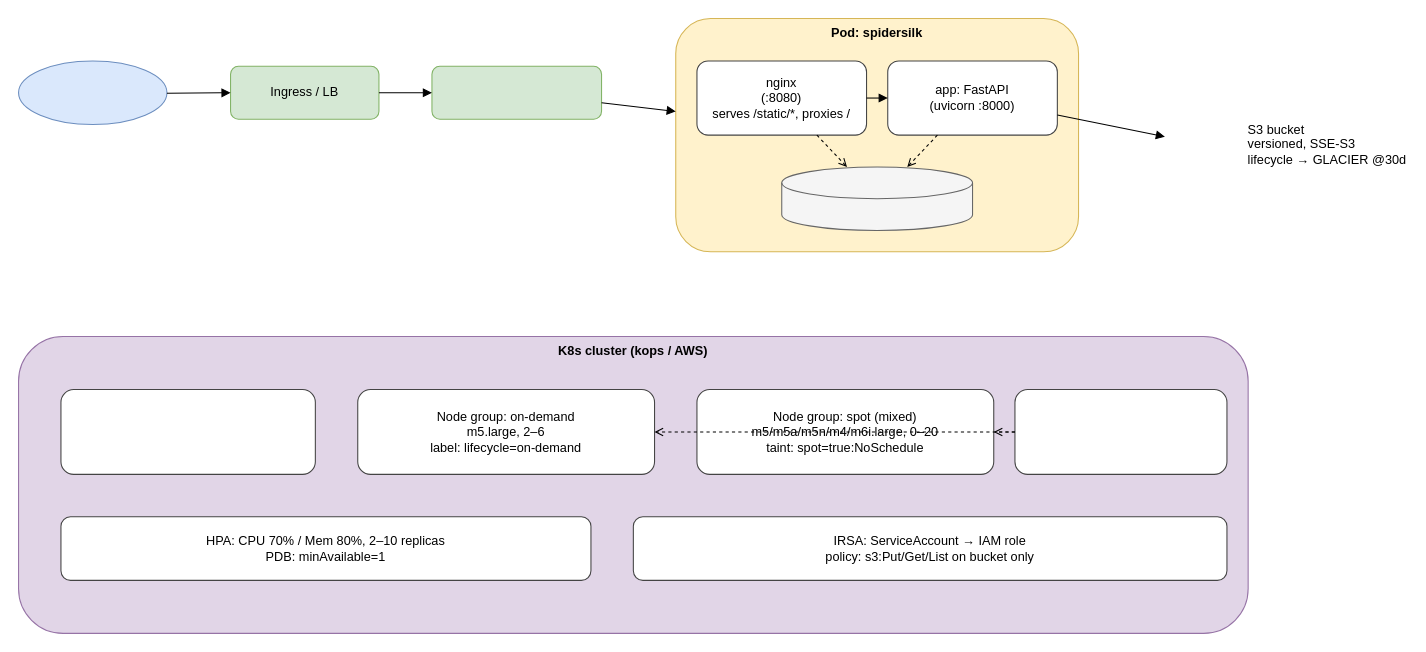
Image size: 1426x652. Some labels were removed from this diagram. The shapes that lost their labels are listed below. From the top down, each one's centre as x and y in pixels, then its label:
At (x=92, y=92): "User browser".
At (x=516, y=92): "Service (ClusterIP :80)".
At (x=877, y=198): "emptyDir /public (shared, not NFS)".
At (x=187, y=431): "3x Control plane (t3.medium, HA across 3 AZs)".
At (x=1120, y=431): "Cluster Autoscaler (ASG auto-discovery, least-waste expander)".
